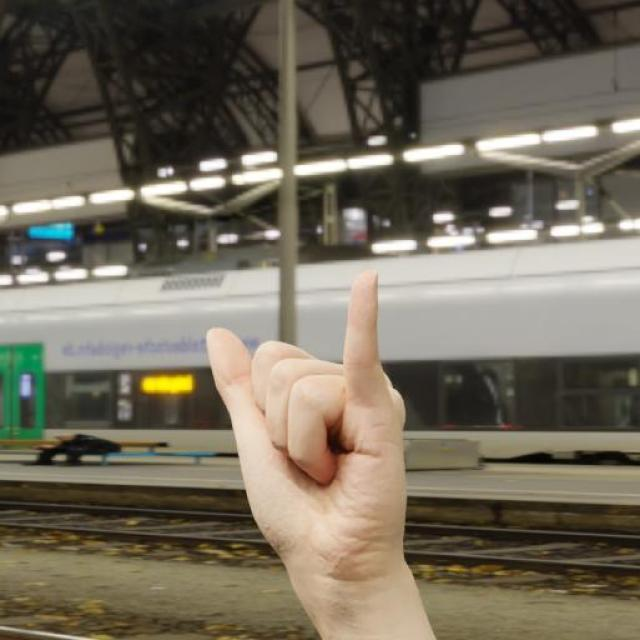Y: (200, 266, 412, 584)
